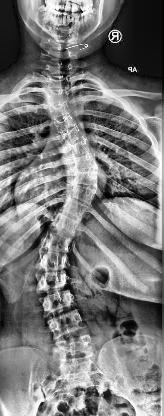Vertebrae: (56, 336, 96, 360), (48, 312, 86, 334), (33, 271, 69, 291), (40, 291, 76, 311), (39, 251, 73, 271), (42, 231, 74, 251), (51, 214, 81, 234), (70, 184, 96, 202), (61, 200, 89, 216), (72, 170, 98, 186), (70, 140, 94, 156), (72, 156, 98, 170), (54, 116, 76, 132), (46, 76, 70, 90), (46, 90, 70, 104), (48, 104, 72, 118), (61, 128, 83, 142)
